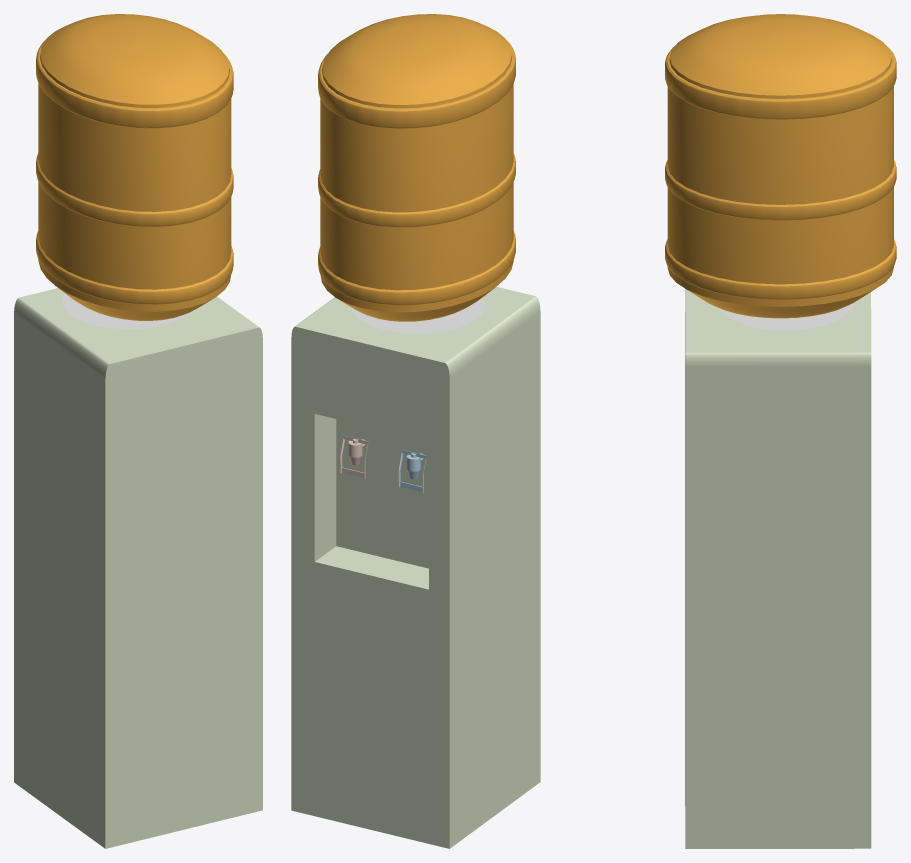
The model's file is Water dispenser.glb.
3 renders of one model, left to right at view 1: azimuth 30°, elevation 25°; view 2: azimuth 150°, elevation 25°; view 3: azimuth 270°, elevation 25°, orthographic. The views are drawn at different scales.
Visible parts, largest first — view 1: Cube.022, Cube.235, Cylinder; view 2: Cube.022, Cube.235, Cylinder, Cube.024, Cube.025; view 3: Cube.022, Cube.235, Cylinder.
Boxes of the visible parts, x1,y1,x2,y2 form: Cube.022: (14, 288, 262, 848); Cube.235: (36, 14, 233, 320); Cylinder: (62, 293, 189, 329); Cube.022: (291, 286, 540, 848); Cube.235: (318, 14, 515, 321); Cylinder: (351, 297, 484, 333); Cube.024: (340, 435, 368, 478); Cube.025: (398, 449, 426, 492); Cube.022: (685, 288, 871, 848); Cube.235: (665, 14, 896, 318); Cylinder: (720, 303, 854, 330).
Size of the model in its own units: 1.13 by 5.03 by 1.93.
